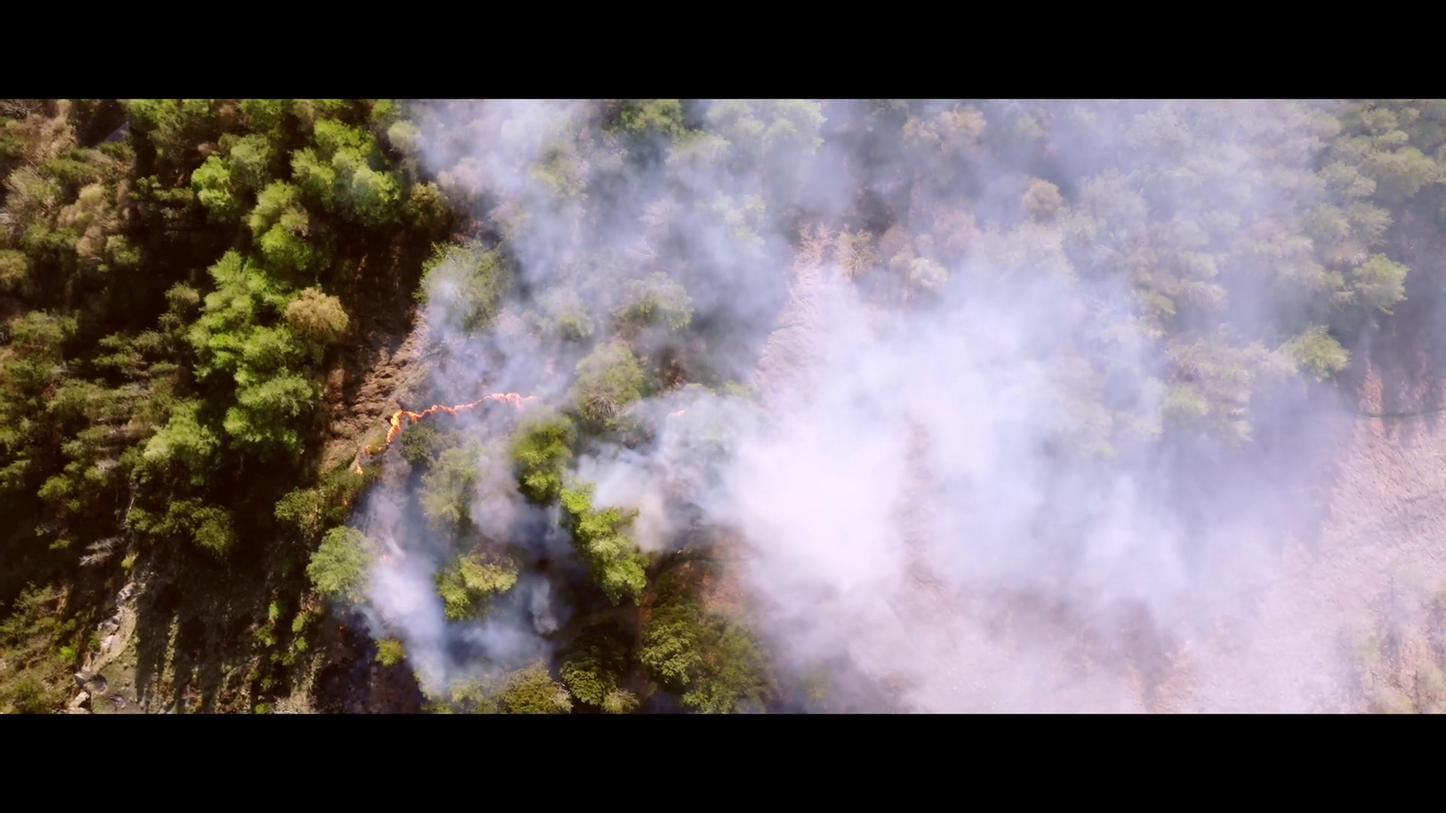forest_fire: (380, 393, 536, 450)
